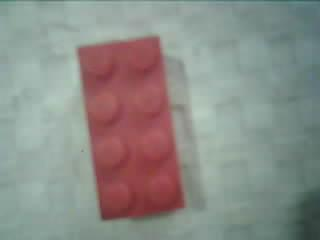lego: (74, 34, 185, 221)
